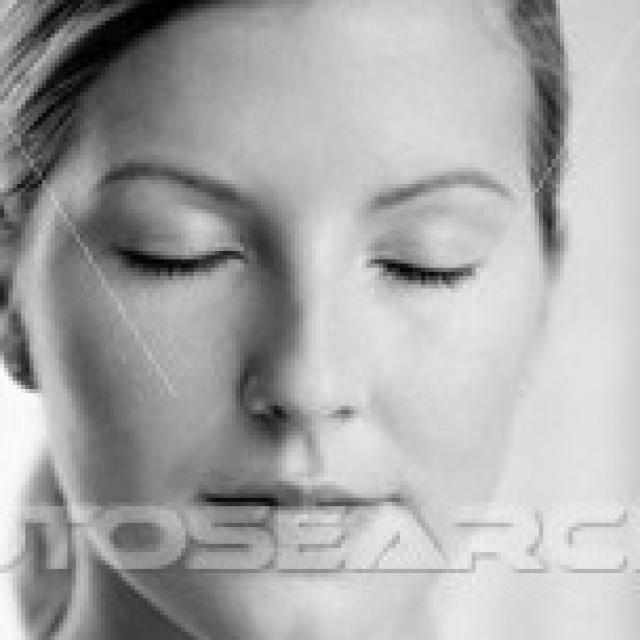real: (47, 32, 516, 623), (108, 194, 523, 298)
